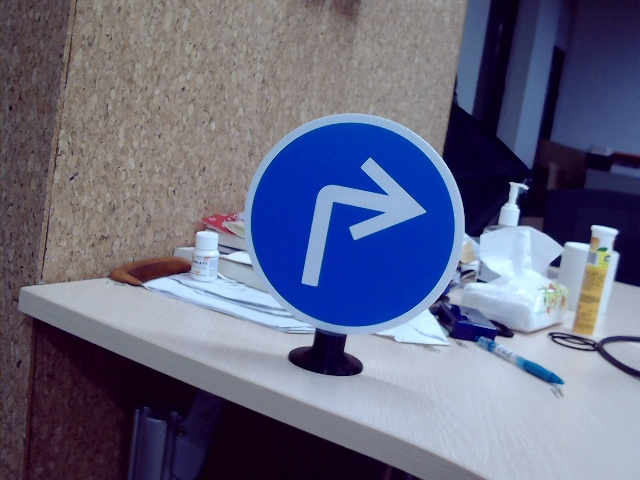turn_right: (301, 148, 421, 301)
